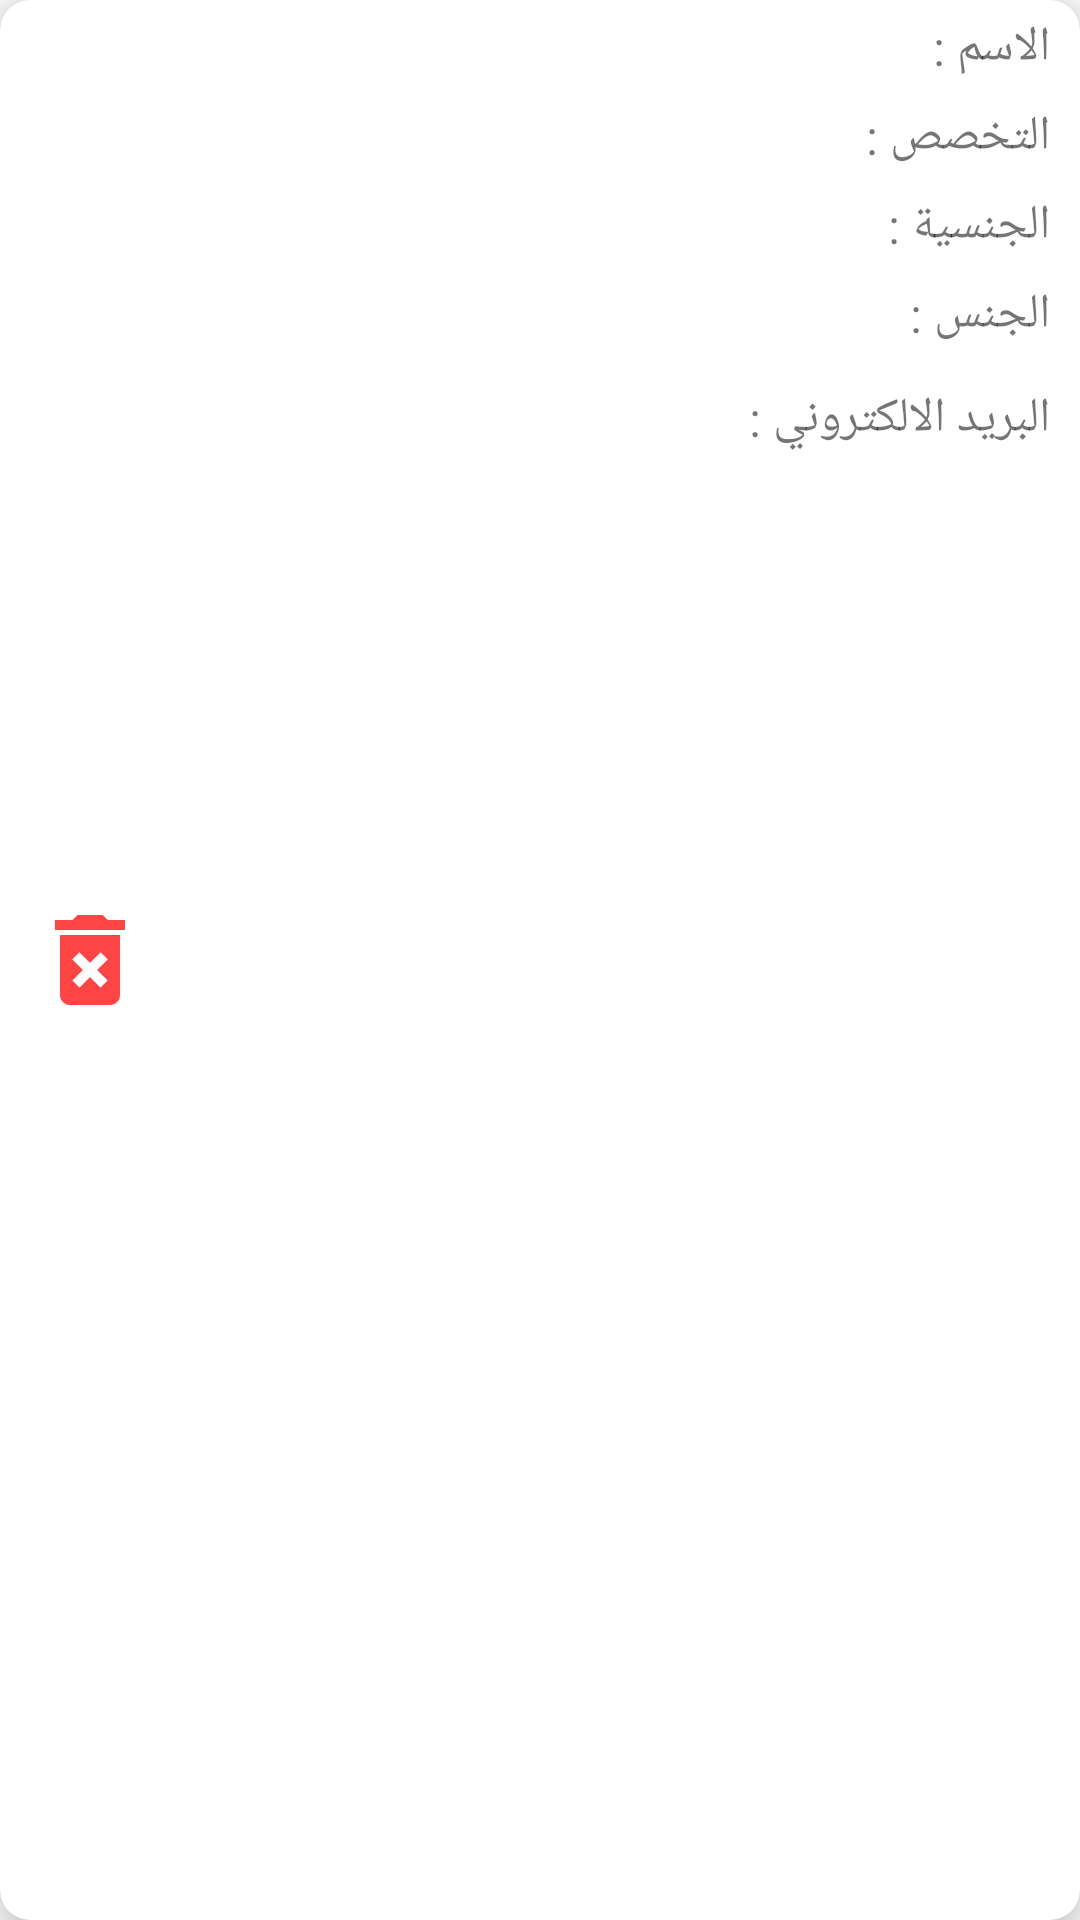

Screen size 1080 x 1920. Icon name, then its center in pixels as (x=x, y=y):
delete: (x=90, y=960)
